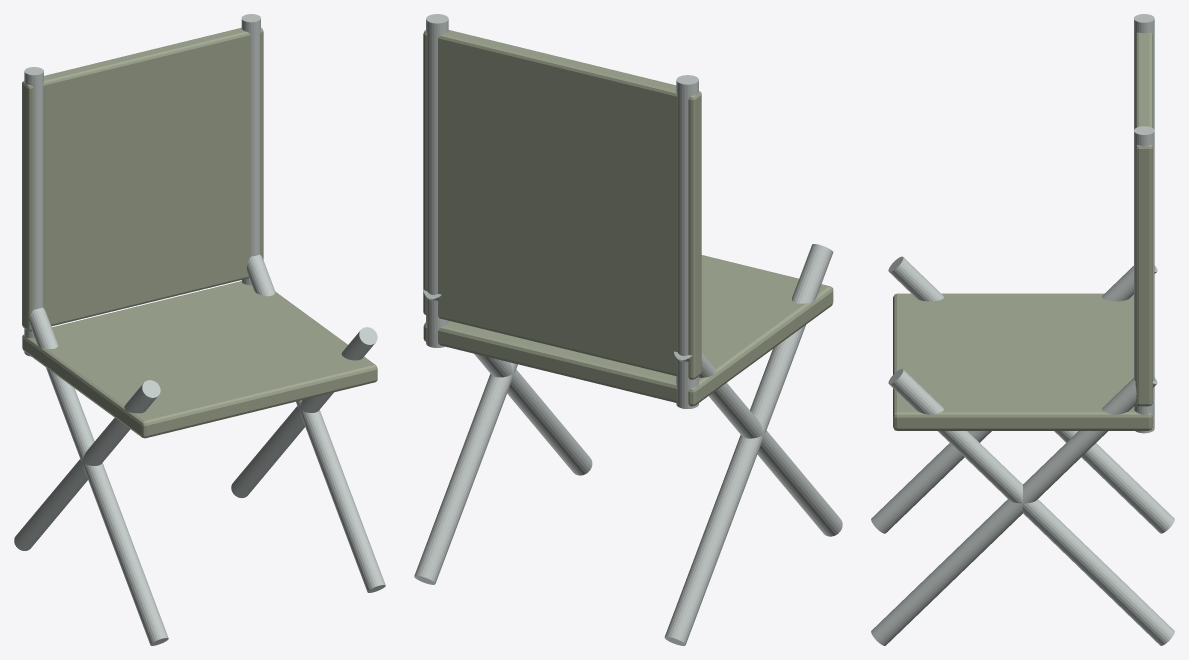
The picture shows the model from 3 angles, left to right: view 1: azimuth 30°, elevation 25°; view 2: azimuth 150°, elevation 25°; view 3: azimuth 270°, elevation 25°; orthographic projection. The views are drawn at different scales.
Parts seen in each view (by area): view 1: chair back, chair seat, crossed leg, crossed leg.002, crossed leg.001, crossed leg.003, back post, back post.001; view 2: chair back, chair seat, crossed leg.001, crossed leg.003, crossed leg, back post, back post.001, crossed leg.002; view 3: chair seat, crossed leg.003, crossed leg.002, chair back, crossed leg.001, crossed leg, back post.001, back post.
Boxes of the visible parts, x1=… form: chair back: x1=22, y1=28, x2=263, y2=331; chair seat: x1=22, y1=281, x2=377, y2=438; crossed leg: x1=29, y1=307, x2=168, y2=645; crossed leg.002: x1=247, y1=254, x2=385, y2=592; crossed leg.001: x1=14, y1=380, x2=160, y2=550; crossed leg.003: x1=231, y1=327, x2=377, y2=498; back post: x1=24, y1=67, x2=43, y2=356; back post.001: x1=241, y1=14, x2=260, y2=285; chair back: x1=423, y1=30, x2=701, y2=379; chair seat: x1=423, y1=255, x2=833, y2=406; crossed leg.001: x1=664, y1=244, x2=833, y2=645; crossed leg.003: x1=414, y1=362, x2=517, y2=584; crossed leg: x1=674, y1=351, x2=842, y2=536; back post: x1=676, y1=75, x2=698, y2=408; back post.001: x1=426, y1=14, x2=448, y2=347; crossed leg.002: x1=423, y1=289, x2=592, y2=475; chair seat: x1=893, y1=293, x2=1152, y2=430; crossed leg.003: x1=888, y1=368, x2=1174, y2=645; crossed leg.002: x1=871, y1=377, x2=1157, y2=645; chair back: x1=1135, y1=32, x2=1152, y2=406; crossed leg.001: x1=888, y1=256, x2=1174, y2=533; crossed leg: x1=871, y1=265, x2=1157, y2=533; back post.001: x1=1134, y1=126, x2=1154, y2=433; back post: x1=1134, y1=14, x2=1154, y2=129.
Bounding box in the file's own units: 0.5 × 0.9823 × 0.5262.
